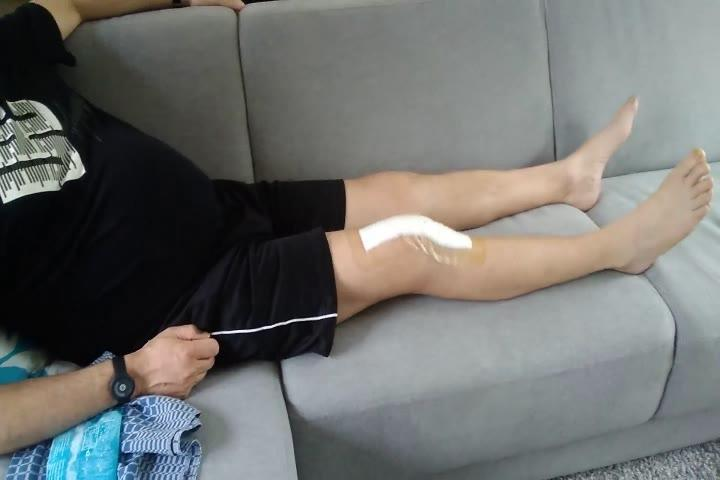lower_body: (132, 90, 718, 381)
